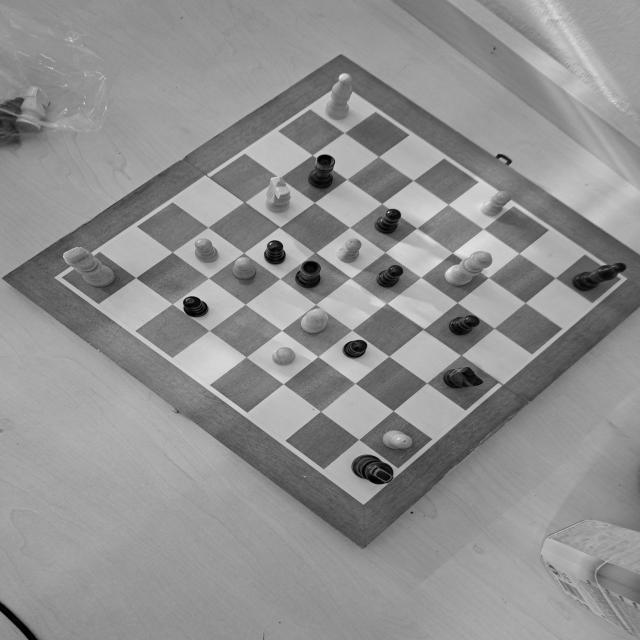chess-table-corners: (322, 80, 362, 104), (350, 489, 376, 507), (608, 270, 632, 288), (50, 270, 74, 286)
